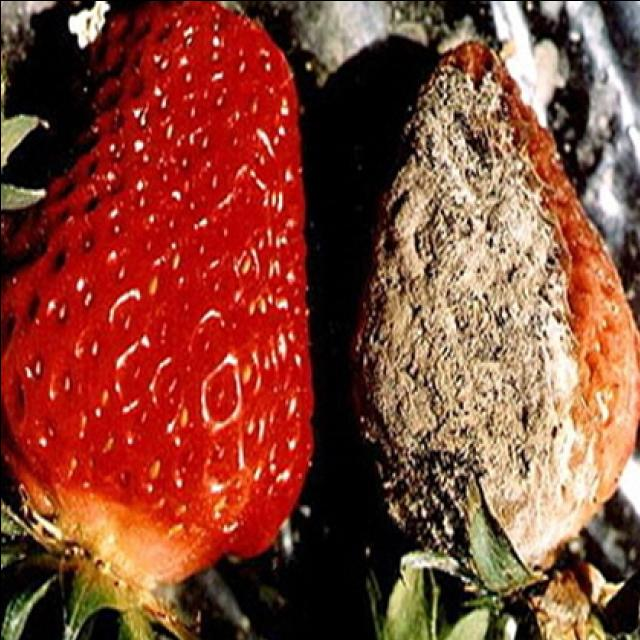Gray Mold: (352, 42, 638, 597)
